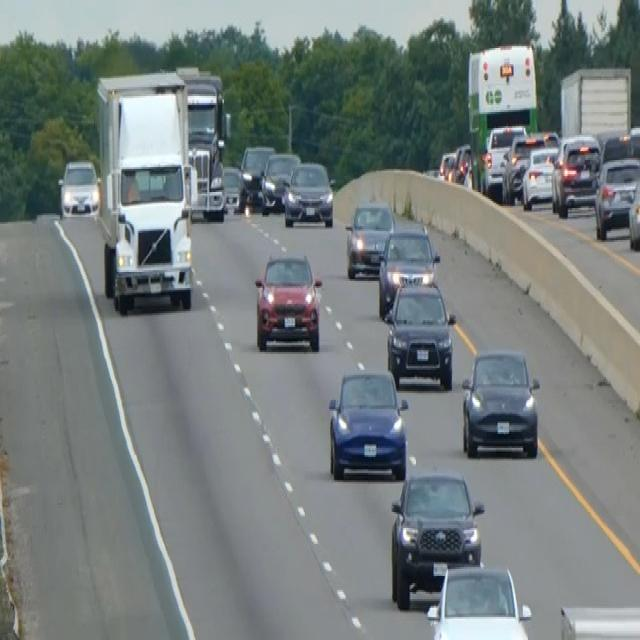car: (389, 469, 484, 608), (327, 366, 409, 480), (460, 345, 540, 459), (426, 562, 532, 638), (385, 278, 456, 390), (253, 251, 322, 352), (377, 226, 440, 316), (551, 131, 601, 217), (593, 153, 639, 240), (344, 198, 394, 278), (283, 158, 334, 228), (482, 123, 526, 192), (501, 132, 544, 202), (559, 601, 639, 638), (57, 156, 99, 217), (260, 150, 300, 213), (520, 144, 558, 210), (239, 143, 274, 205), (600, 134, 639, 166), (222, 164, 246, 212), (627, 174, 639, 249), (452, 142, 472, 185), (438, 150, 456, 180)
lorry: (94, 68, 195, 314)
